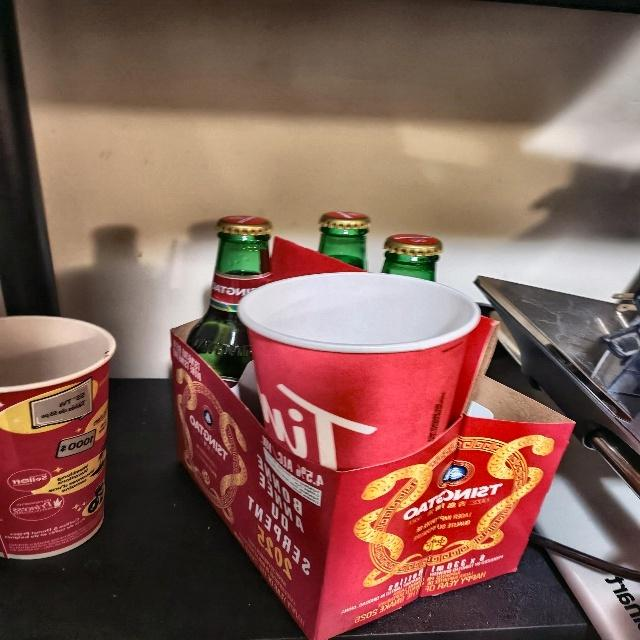Cup: (0, 312, 119, 560)
Timmies: (234, 270, 488, 475)
